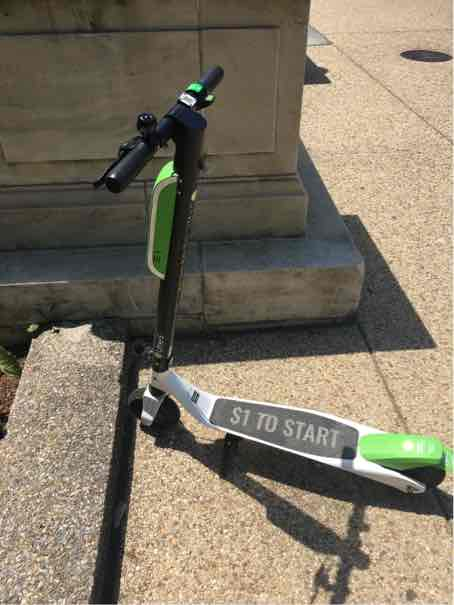scooter: (69, 55, 453, 509)
